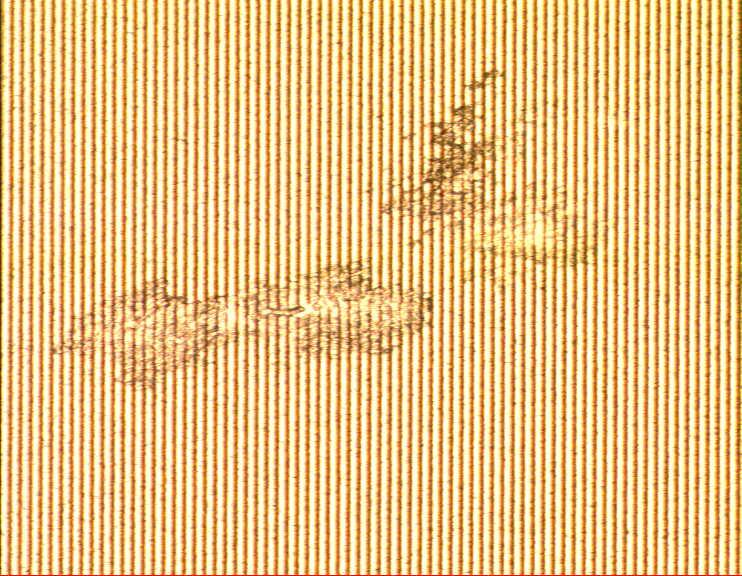SCRATCH: (48, 64, 618, 390)
